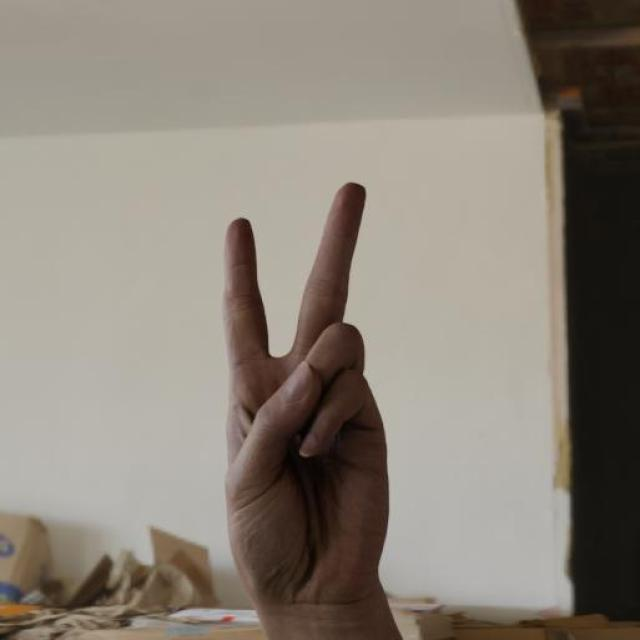V: (216, 182, 394, 608)
